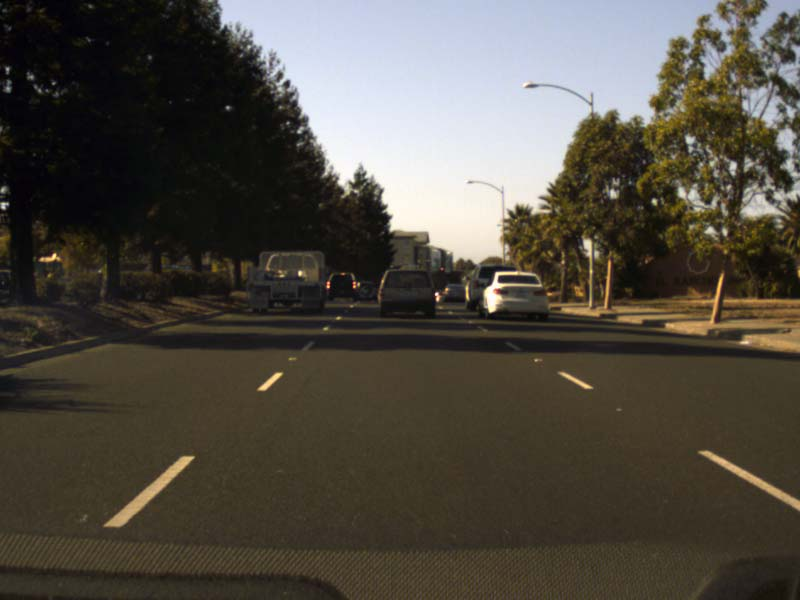Red: (439, 266, 443, 271)
